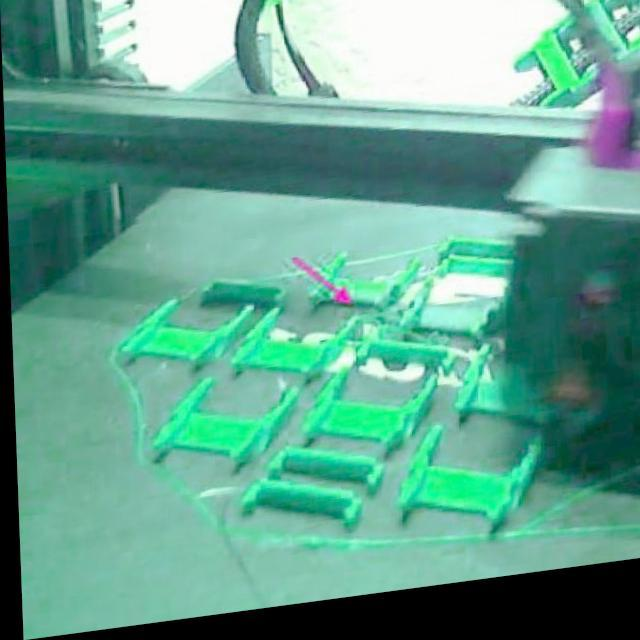spaghetti: (360, 299, 450, 366)
